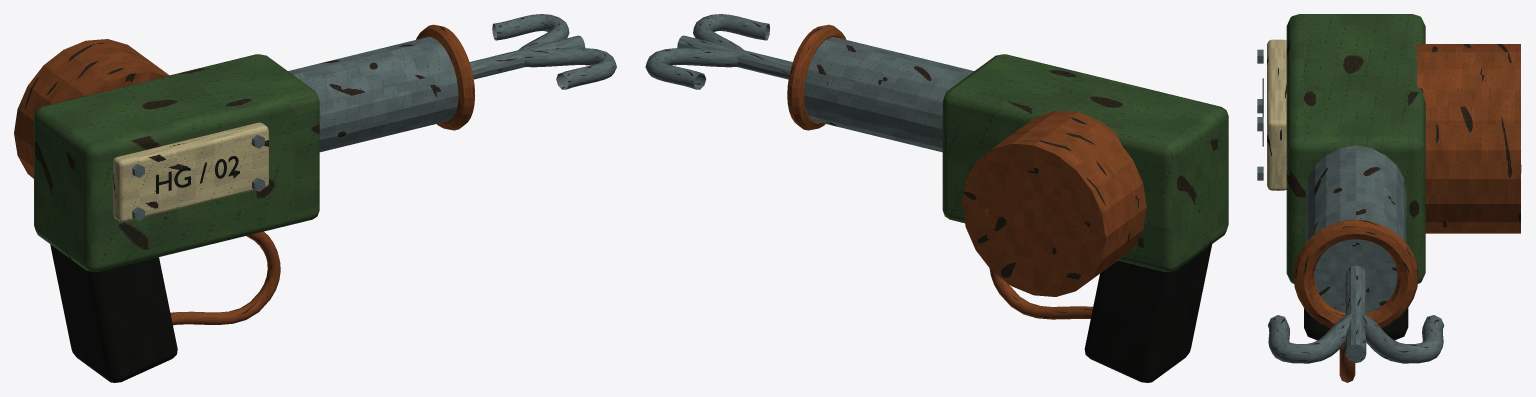
Rendered from eq-grapplepistol.glb.
The picture shows the model from 3 angles, left to right: view 1: azimuth 30°, elevation 25°; view 2: azimuth 150°, elevation 25°; view 3: azimuth 270°, elevation 25°; orthographic projection. The views are drawn at different scales.
Parts seen in each view (by area): view 1: Receiver, Barrel, Rubber grip, Cream inset.001, Reel, Hook prong, Trigger guard, Muzzle, Hook prong.001, Harpoon shaft, Mark_HG / 02; view 2: Receiver, Reel, Barrel, Rubber grip, Hook prong.001, Muzzle, Hook prong, Harpoon shaft, Trigger guard; view 3: Receiver, Reel, Barrel, Muzzle, Cream inset.001, Hook prong.001, Hook prong, Harpoon shaft, Rubber grip, Trigger guard.
Part boxes in pixels (x1=…): Receiver: x1=34, y1=54, x2=319, y2=272; Barrel: x1=288, y1=37, x2=458, y2=152; Rubber grip: x1=50, y1=244, x2=177, y2=382; Cream inset.001: x1=113, y1=122, x2=268, y2=222; Reel: x1=14, y1=39, x2=169, y2=178; Hook prong: x1=522, y1=48, x2=616, y2=89; Trigger guard: x1=170, y1=231, x2=280, y2=325; Muzzle: x1=416, y1=24, x2=474, y2=130; Hook prong.001: x1=492, y1=14, x2=569, y2=50; Harpoon shaft: x1=469, y1=35, x2=585, y2=79; Mark_HG / 02: x1=156, y1=156, x2=239, y2=193; Receiver: x1=942, y1=54, x2=1228, y2=272; Reel: x1=962, y1=110, x2=1146, y2=296; Barrel: x1=804, y1=37, x2=974, y2=152; Rubber grip: x1=1084, y1=244, x2=1212, y2=382; Hook prong.001: x1=645, y1=48, x2=739, y2=89; Muzzle: x1=787, y1=24, x2=846, y2=130; Hook prong: x1=693, y1=14, x2=769, y2=50; Harpoon shaft: x1=677, y1=35, x2=792, y2=79; Trigger guard: x1=989, y1=268, x2=1092, y2=319; Receiver: x1=1286, y1=14, x2=1425, y2=283; Reel: x1=1417, y1=44, x2=1520, y2=233; Barrel: x1=1305, y1=145, x2=1406, y2=312; Muzzle: x1=1293, y1=219, x2=1418, y2=328; Cream inset.001: x1=1267, y1=39, x2=1286, y2=190; Hook prong.001: x1=1356, y1=311, x2=1444, y2=363; Hook prong: x1=1268, y1=311, x2=1355, y2=363; Harpoon shaft: x1=1345, y1=265, x2=1366, y2=362; Rubber grip: x1=1304, y1=308, x2=1408, y2=340; Trigger guard: x1=1339, y1=343, x2=1355, y2=382.
Size of the model in its own units: 0.8119 by 0.3857 by 0.304.
7 materials, 7 textured.
